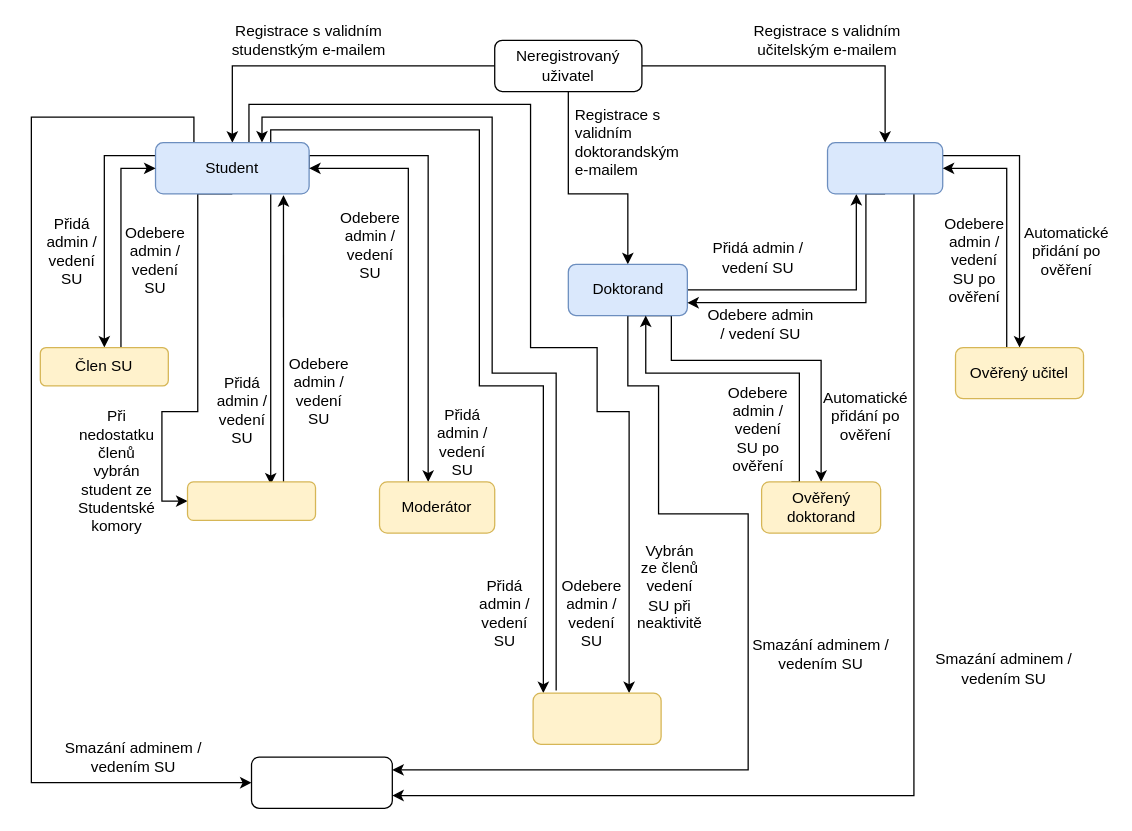
The diagram is 1132 pixels wide and 831 high, and some of its shapes have lost their labels. Here are the shapes that lost their labels. From the top down, the centre of each, then its label:
At point 884,167: "Učitel".
At point 251,500: "Vedení SU".
At point 596,718: "Administrátor".
At point 321,782: "Smazaný uživatel".
